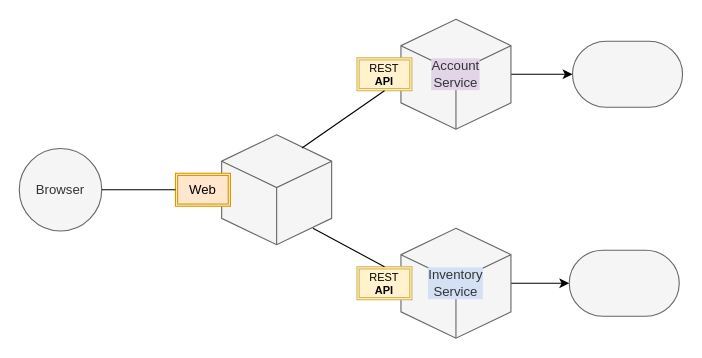
The diagram is 702 pixels wide and 358 high, and some of its shapes have lost their labels. Here are the shapes that lost their labels. From the top down, the centre of each, then its label:
pixel 627 73: User Database
pixel 276 189: Storefront Web App
pixel 623 282: Product Database
